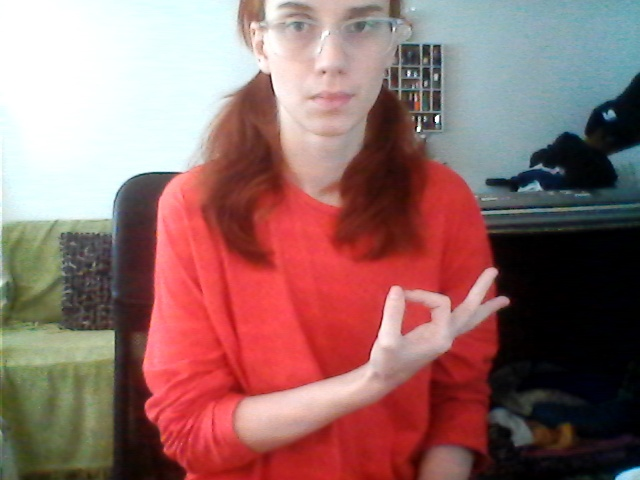co: (362, 262, 513, 381)
